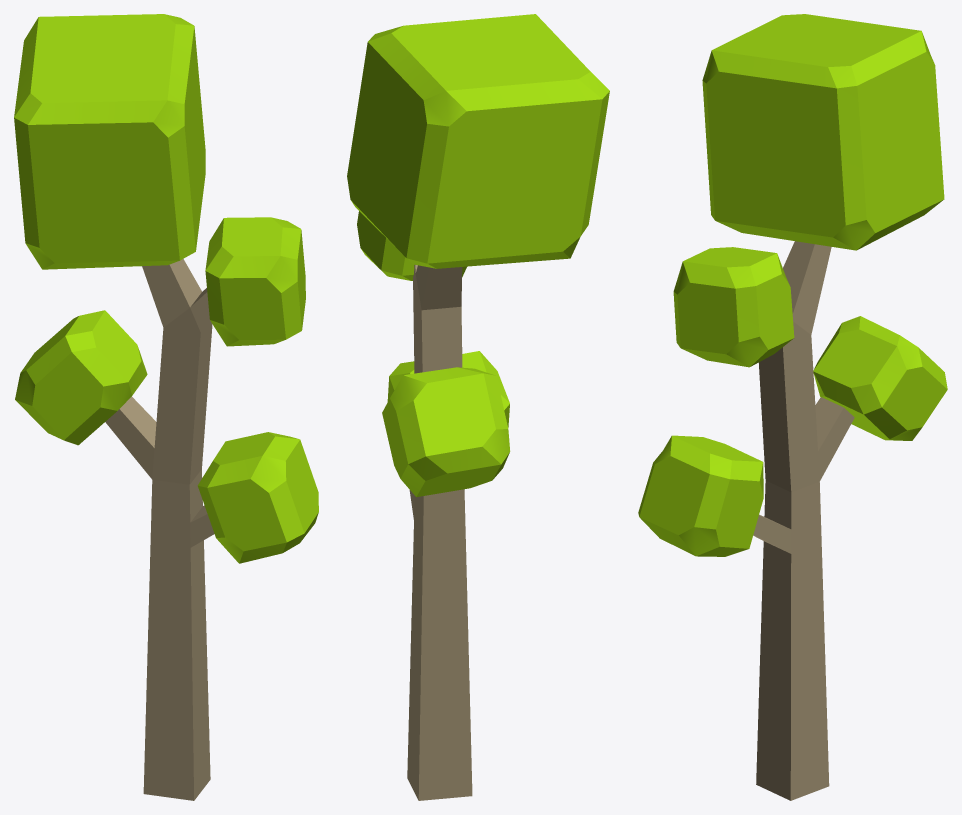
The model's file is tree_big_t_01.fbx.
3 views of the same model, side by side, from view 1: azimuth 30°, elevation 25°; view 2: azimuth 150°, elevation 25°; view 3: azimuth 270°, elevation 25° (orthographic). The views are drawn at different scales.
Parts seen in each view (by area): view 1: tree_big_t_01; view 2: tree_big_t_01; view 3: tree_big_t_01.
Part boxes in pixels (bbox=[...]): tree_big_t_01: bbox=[14, 14, 318, 800]; tree_big_t_01: bbox=[347, 14, 609, 800]; tree_big_t_01: bbox=[638, 14, 947, 800].
Size of the model in its own units: 829 by 2264 by 873.
